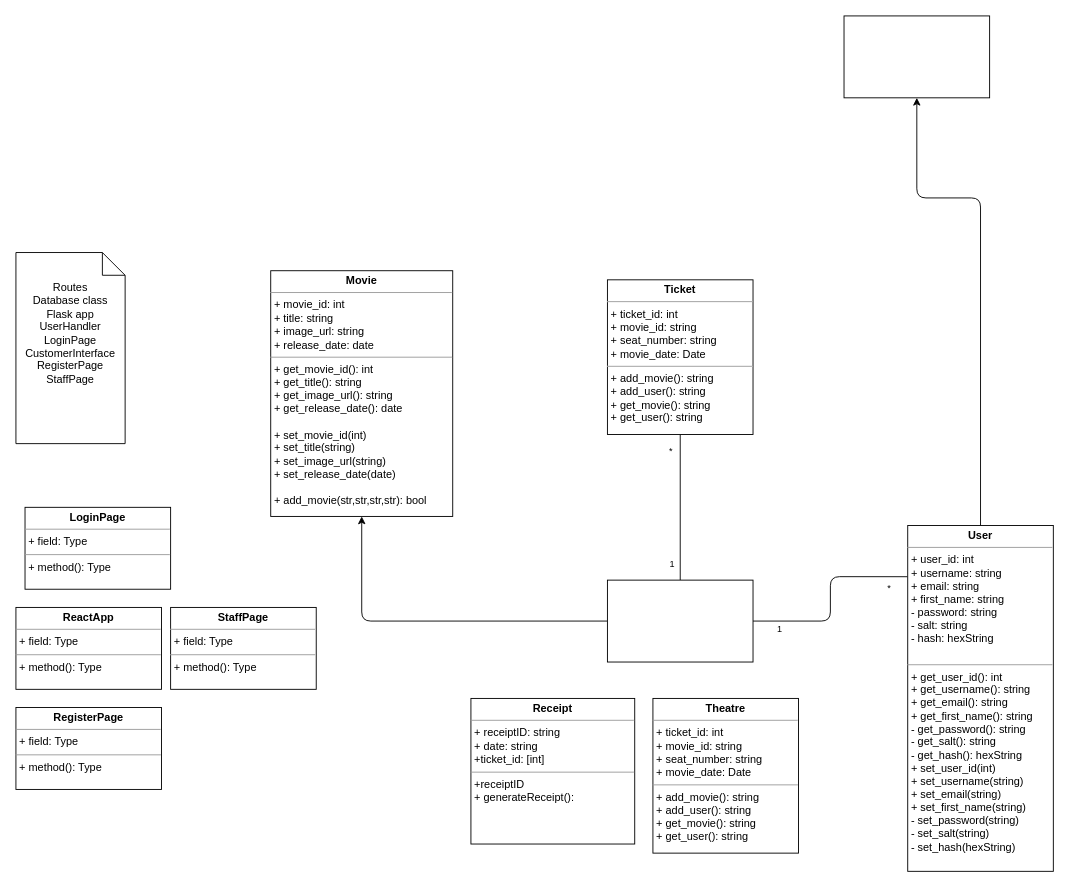
Image size: 1069x887. Some labels were removed from this diagram. The shapes that lost their labels are listed below. From the top down, each one's box as (x1, y1, x2, y2) in pixels, then its label:
(843, 15, 990, 98): Database + field: Type + method(): Type
(607, 579, 753, 662): CinemaApp + field: Type + method(): Type
